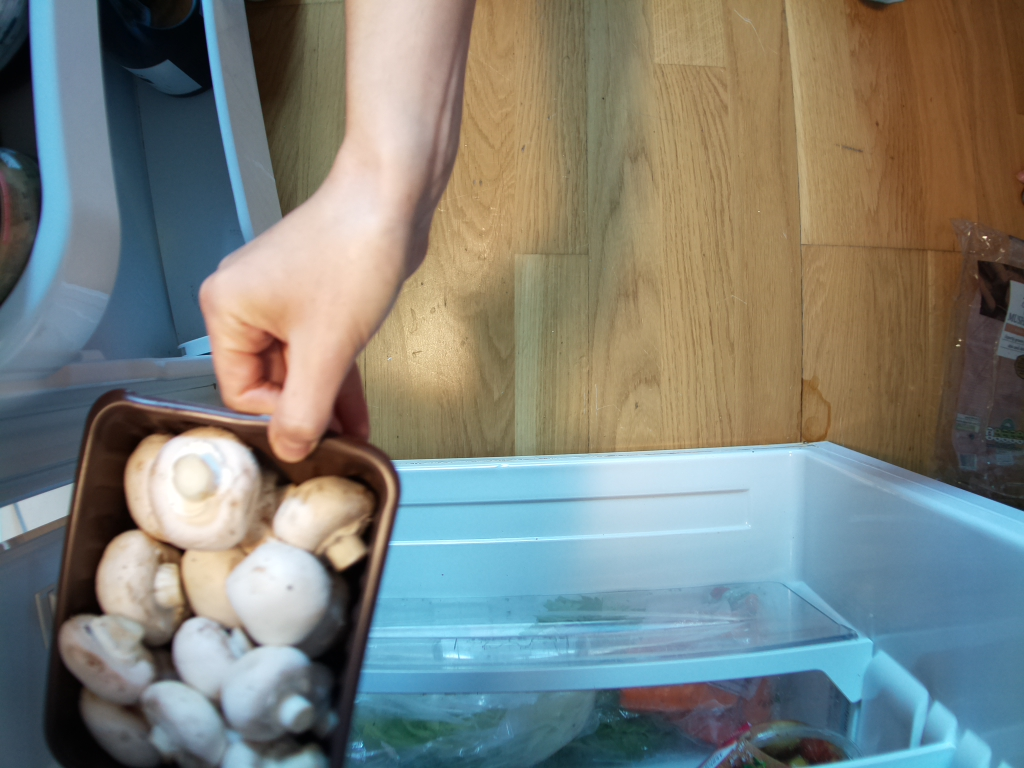mushrooms: (36, 390, 411, 768)
